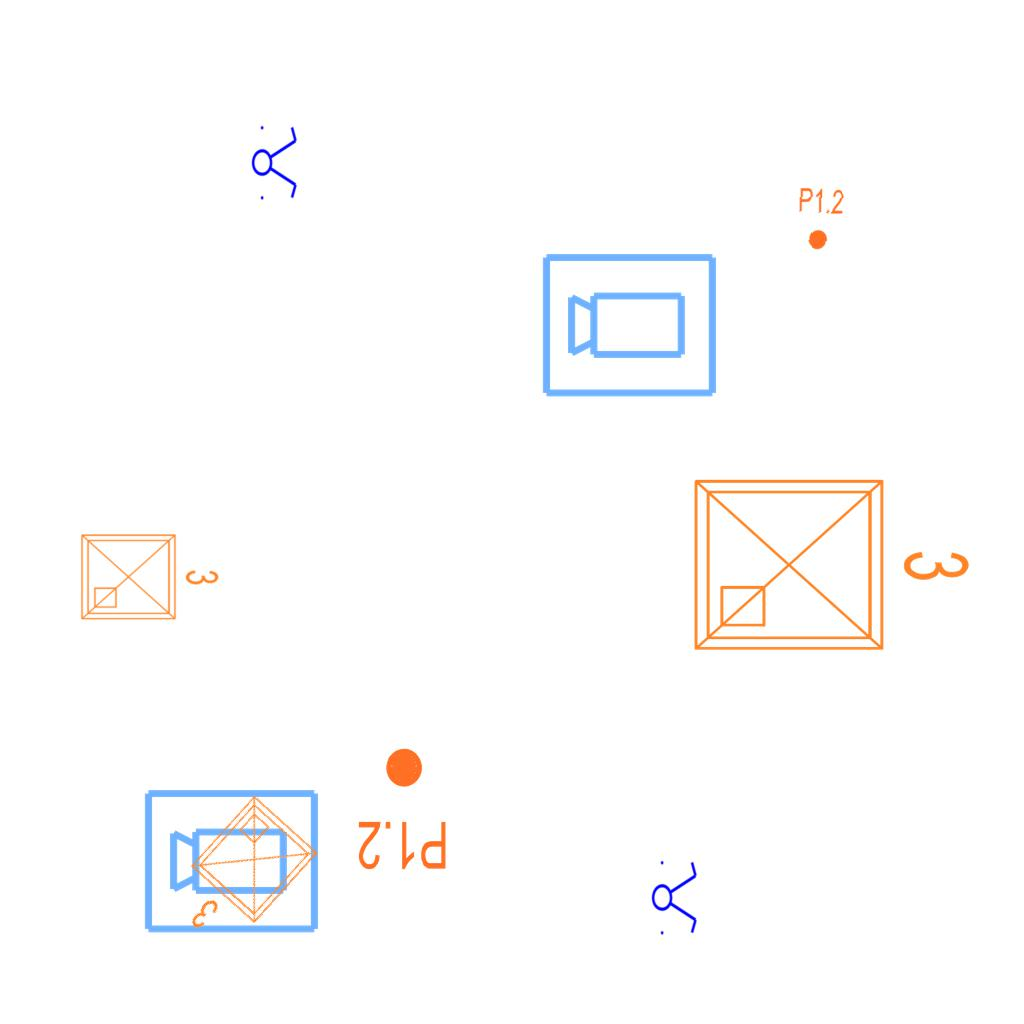Downlight_LED_Einbauleuchten_Flur: (356, 745, 449, 873), (794, 185, 846, 253)
Einbaudownlights_LED_Konferenzraeume: (680, 457, 980, 665), (153, 785, 331, 967), (74, 523, 224, 627)
KFO_Kamera_mit_Festobjektiv: (141, 783, 323, 937), (539, 247, 721, 401)
Serienschalter: (251, 120, 299, 204), (651, 855, 699, 939)
